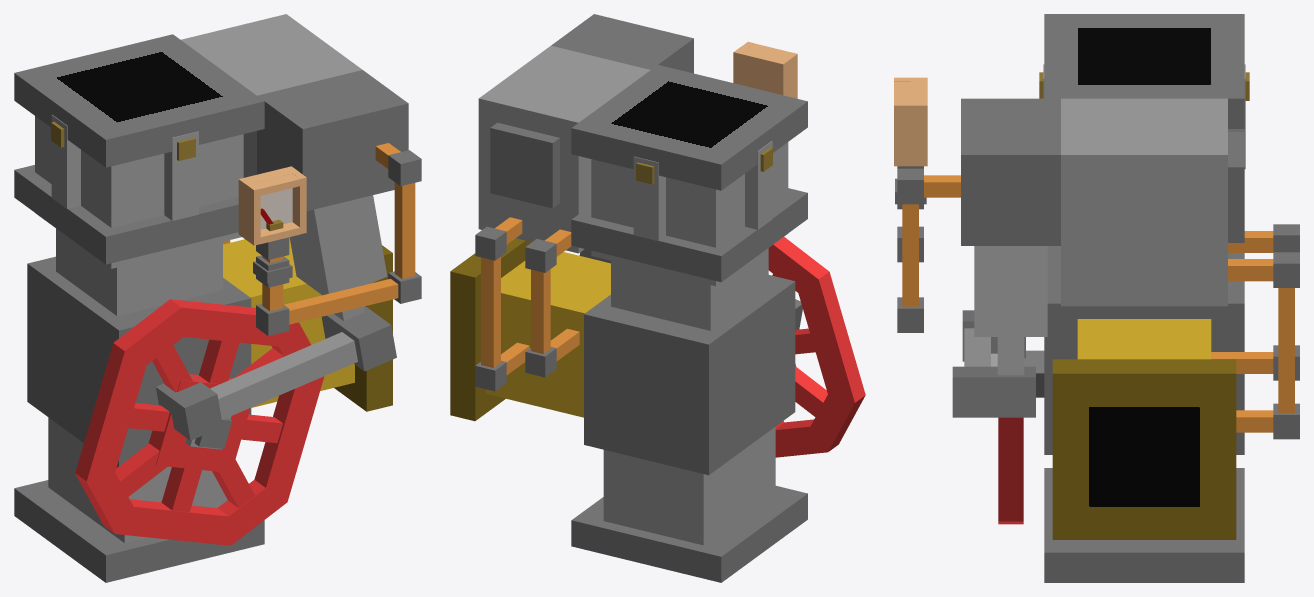
Rendered from offshore_pump.obj.
3 views of the same model, side by side, from view 1: azimuth 30°, elevation 25°; view 2: azimuth 150°, elevation 25°; view 3: azimuth 270°, elevation 25° (orthographic). The views are drawn at different scales.
Bounding box in the file's own units: 0.7827 × 1 × 0.7594.
